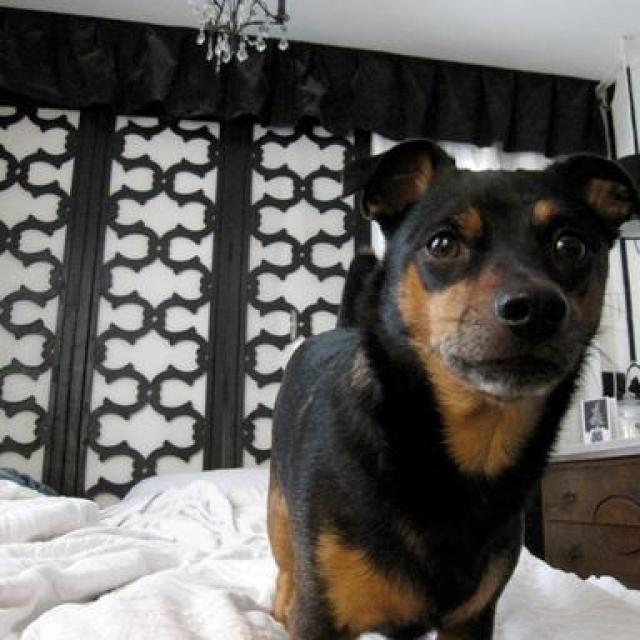adult_dog: (269, 137, 640, 640)
